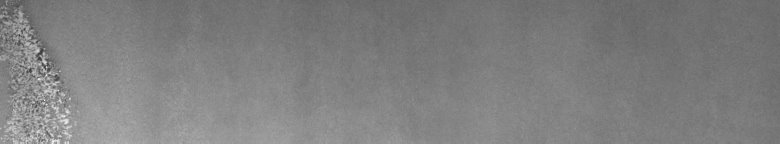hc: (4, 4, 79, 136)
